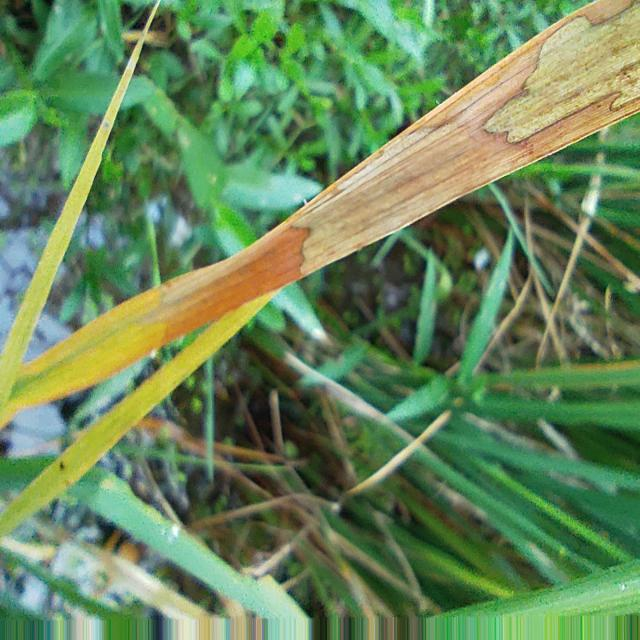Leaf_Blast: (0, 293, 274, 536), (0, 0, 160, 412)
Rice False Smut: (289, 0, 640, 276), (485, 2, 640, 143), (142, 223, 311, 344)
